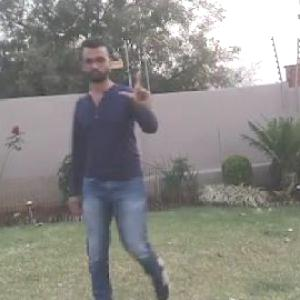land_hand: (117, 71, 153, 106)
